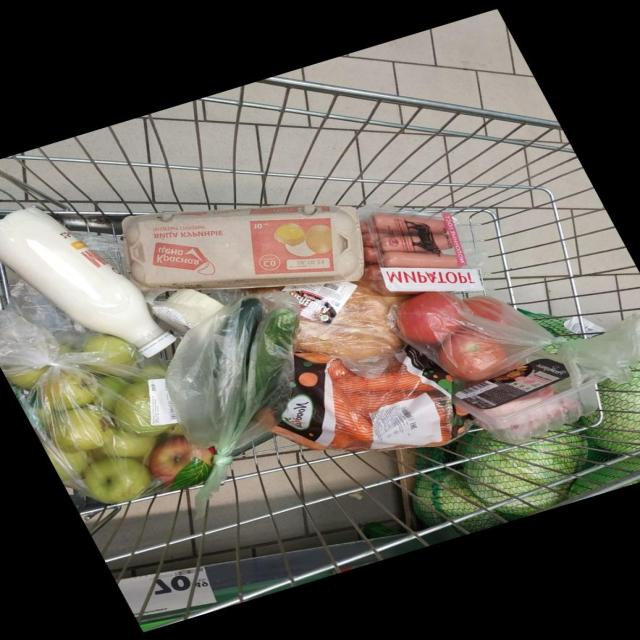apple: (73, 221, 243, 640), (80, 242, 250, 640), (64, 234, 218, 640), (60, 255, 208, 640), (59, 197, 189, 581), (50, 174, 157, 533), (37, 224, 123, 640), (31, 235, 113, 640), (17, 207, 98, 614), (9, 204, 58, 571)
carrot: (184, 222, 557, 640), (179, 208, 555, 619), (156, 198, 549, 588), (169, 230, 522, 640)
cheese: (107, 159, 330, 463)
cucumber: (133, 191, 411, 564), (123, 204, 365, 596)
egg: (36, 143, 277, 431)
milk: (23, 158, 143, 494)
tomato: (230, 193, 640, 569), (214, 173, 640, 516), (250, 167, 640, 476)
